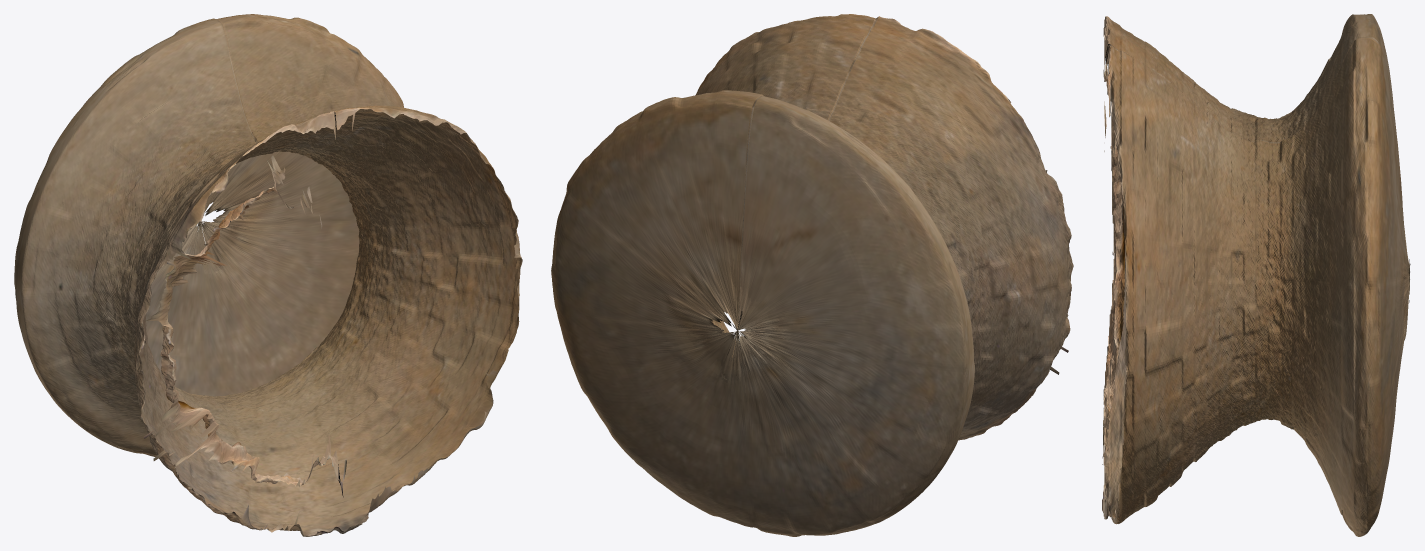
3 renders of one model, left to right at view 1: azimuth 30°, elevation 25°; view 2: azimuth 150°, elevation 25°; view 3: azimuth 270°, elevation 25°, orthographic. The views are drawn at different scales.
Visible parts, largest first — view 1: geometry_0; view 2: geometry_0; view 3: geometry_0.
Part boxes in pixels (x1=…): geometry_0: x1=14, y1=14, x2=522, y2=536; geometry_0: x1=551, y1=14, x2=1073, y2=536; geometry_0: x1=1102, y1=14, x2=1410, y2=536.
Size of the model in its own units: 1.98 by 2 by 1.18.
Materials: 1 (1 with a texture image).
